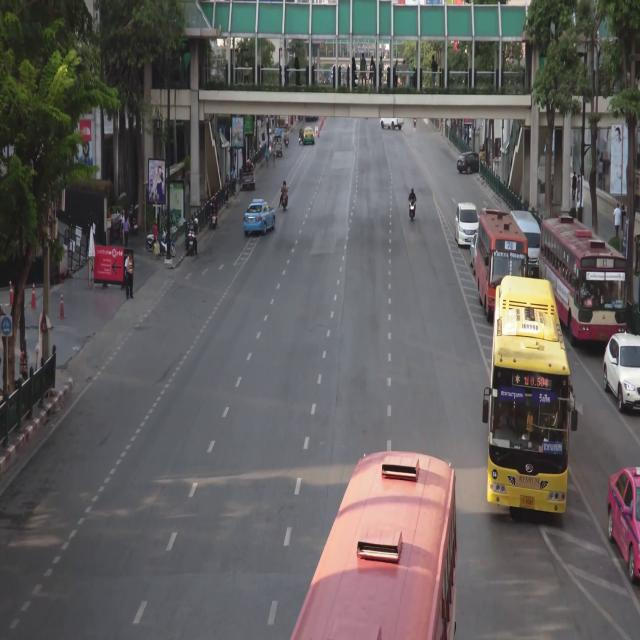bus: (294, 449, 457, 640), (491, 280, 566, 513), (542, 217, 625, 343), (480, 211, 526, 320)
car: (606, 334, 640, 415), (511, 212, 540, 277), (455, 204, 476, 246), (458, 153, 480, 174), (470, 229, 479, 270), (241, 163, 255, 189), (379, 117, 406, 129), (273, 137, 283, 158)
pedestrian: (125, 254, 133, 299), (124, 211, 130, 249), (614, 202, 620, 236), (225, 173, 230, 204), (572, 171, 577, 201), (622, 203, 626, 233), (232, 167, 236, 195), (577, 176, 581, 202), (266, 144, 270, 168), (272, 151, 276, 169), (262, 130, 265, 146)
taxi: (607, 463, 640, 586), (244, 199, 276, 235), (304, 128, 315, 145)
